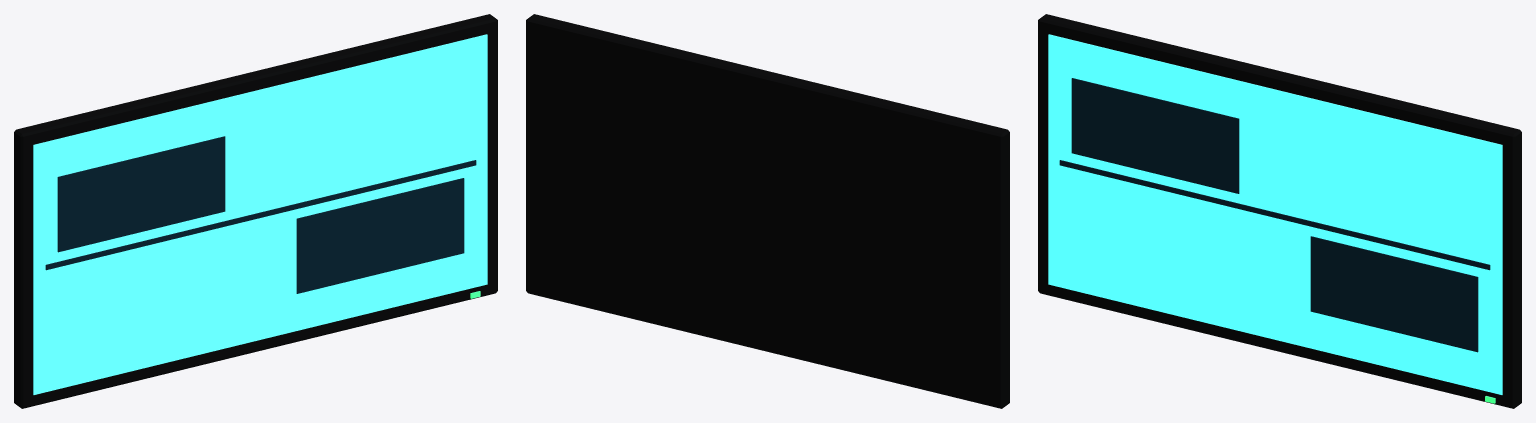
Rendered from meeting_screen_wall.glb.
The picture shows the model from 3 angles, left to right: view 1: azimuth 30°, elevation 25°; view 2: azimuth 150°, elevation 25°; view 3: azimuth 330°, elevation 25°; orthographic projection.
Parts seen in each view (by area): view 1: meeting_screen_wall; view 2: meeting_screen_wall; view 3: meeting_screen_wall.
Part boxes in pixels (x1,y1,x2,y2): meeting_screen_wall: [14, 14, 497, 408]; meeting_screen_wall: [526, 14, 1009, 408]; meeting_screen_wall: [1038, 14, 1521, 408].
Size of the model in its own units: 2 by 1.1 by 0.068.
